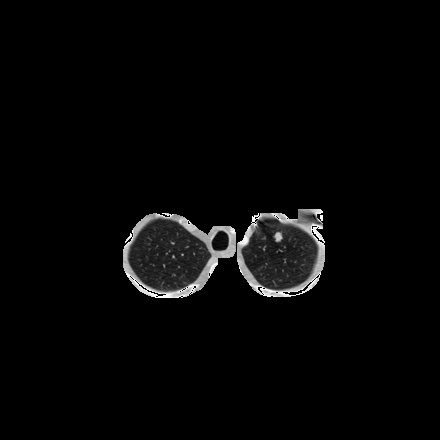PN: (273, 231, 283, 241)
